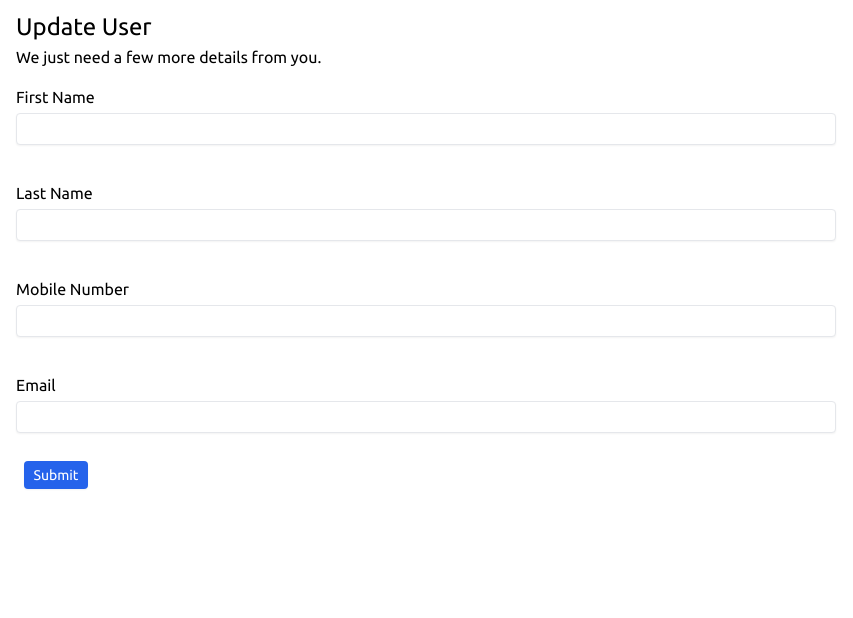
Test case: <UpdateUserForm /> › err messages for first & last names, mobile and email render if submit btn clicked with details
Click the button "Submit" at [56, 475], box [24,461,88,489]
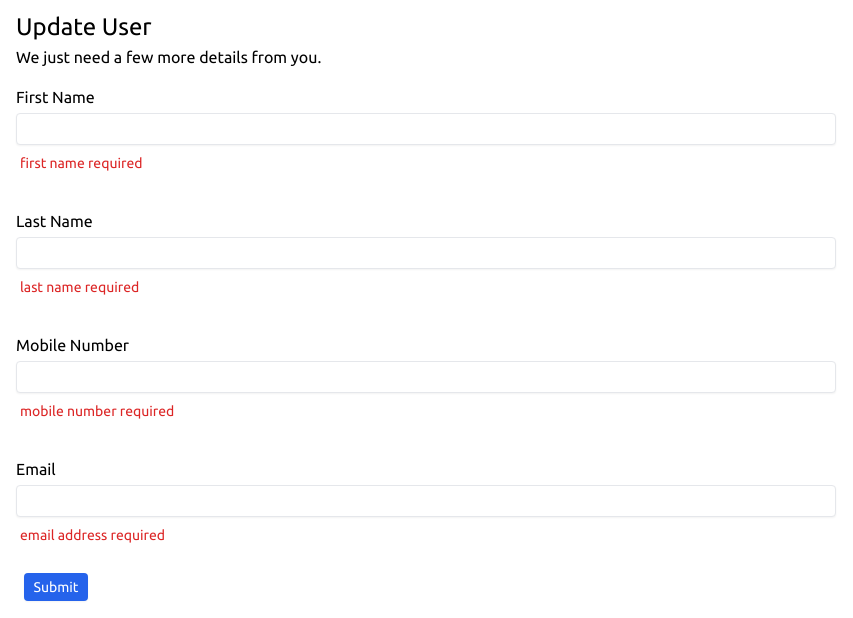
Expected: the element with test id "user-form" shows "first name required", [20,155,142,171]
Expected: the element with test id "user-form" shows "last name required", [20,279,139,295]
Expected: the element with test id "user-form" shows "mobile number required", [20,403,174,419]
